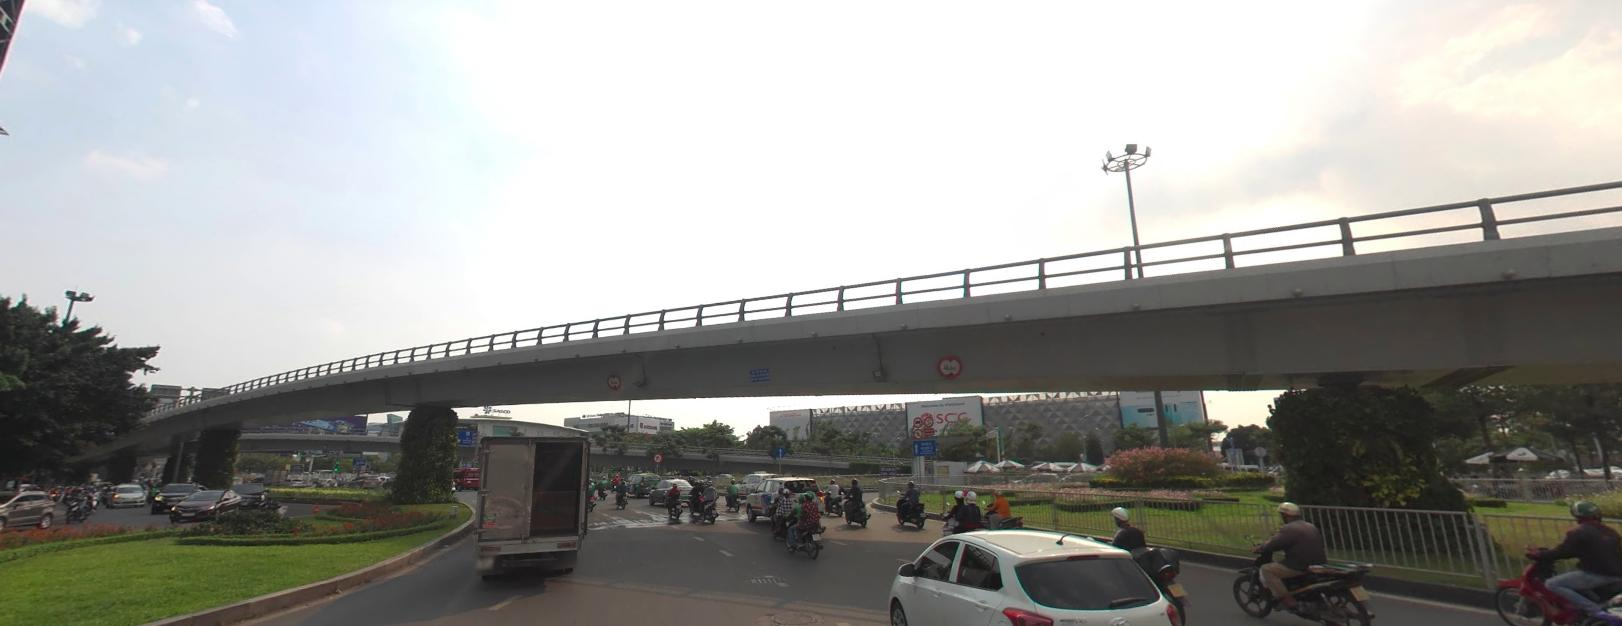Cam con lai: (936, 353, 962, 377), (606, 372, 620, 387), (924, 415, 933, 425), (912, 415, 921, 426), (913, 427, 922, 437)
Cam re: (652, 451, 662, 461)
Hieu lenh: (774, 445, 786, 457)
